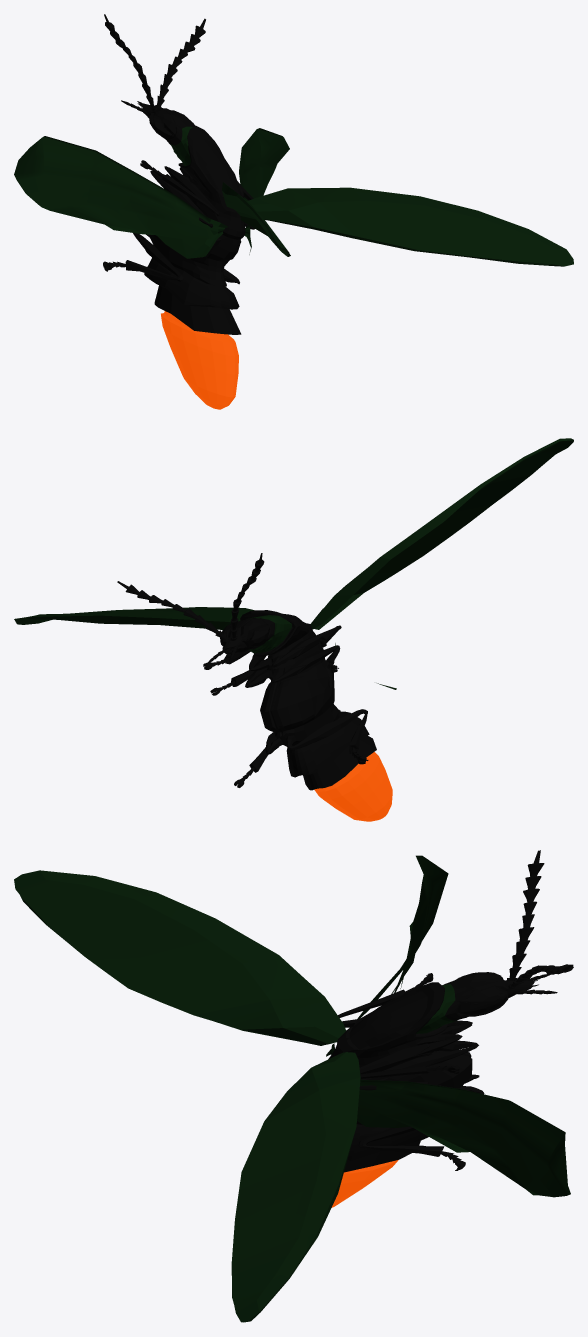
File: Firefly_3-transformed.glb
3 views of the same model, one above another, from view 1: azimuth 30°, elevation 25°; view 2: azimuth 150°, elevation 25°; view 3: azimuth 270°, elevation 25° (orthographic). The views are drawn at different scales.
Visible parts, largest first — view 1: firefly.001, firefly.008, firefly.007, firefly.009, firefly.006; view 2: firefly.001, firefly.006, firefly.008; view 3: firefly.006, firefly.008, firefly.001, firefly.009, firefly.007.
Part boxes in pixels (box(x1,y1,x2,y2)): firefly.001: box(103, 14, 254, 409); firefly.008: box(247, 187, 573, 266); firefly.007: box(14, 136, 227, 258); firefly.009: box(239, 128, 289, 254); firefly.006: box(222, 182, 290, 256); firefly.001: box(117, 553, 392, 821); firefly.006: box(310, 438, 573, 629); firefly.008: box(14, 607, 254, 630); firefly.006: box(14, 870, 346, 1045); firefly.008: box(231, 1052, 360, 1322); firefly.001: box(328, 850, 573, 1207); firefly.009: box(357, 1079, 570, 1197); firefly.007: box(326, 855, 448, 1056).
Bounding box in the file's own units: 0.1338 × 0.0831 × 0.1152.
